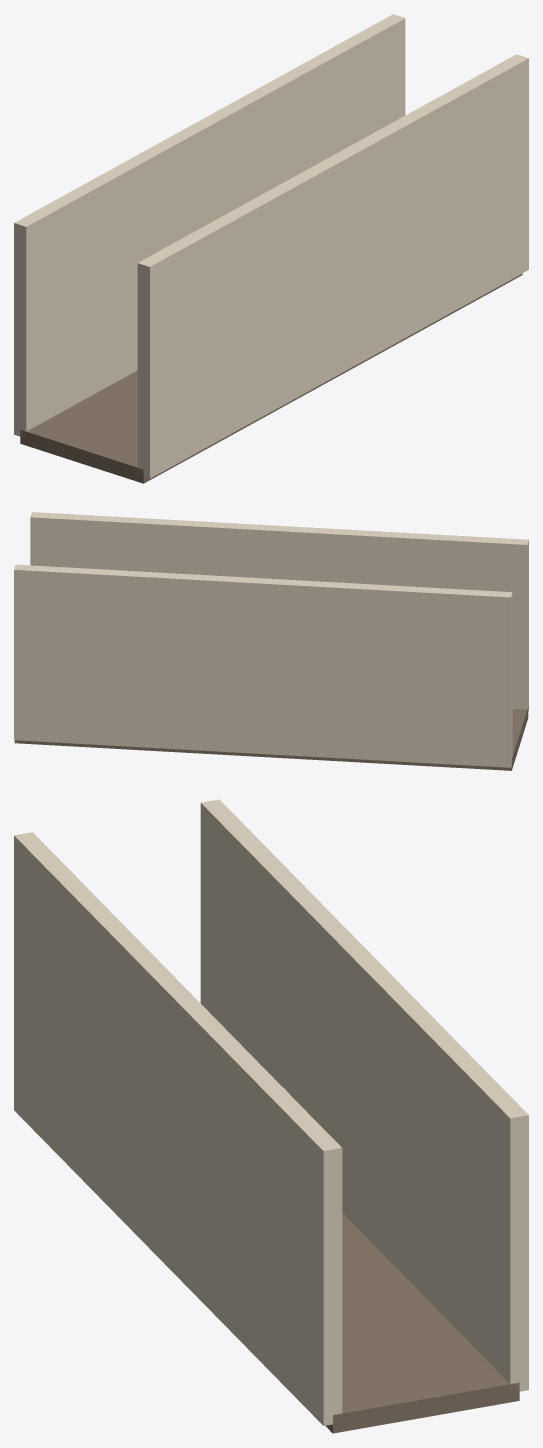
File: corridor.glb
3 views of the same model, one above another, from view 1: azimuth 30°, elevation 25°; view 2: azimuth 150°, elevation 25°; view 3: azimuth 270°, elevation 25° (orthographic). The views are drawn at different scales.
Size of the model in its own units: 4.12 by 1.55 by 2.55.
